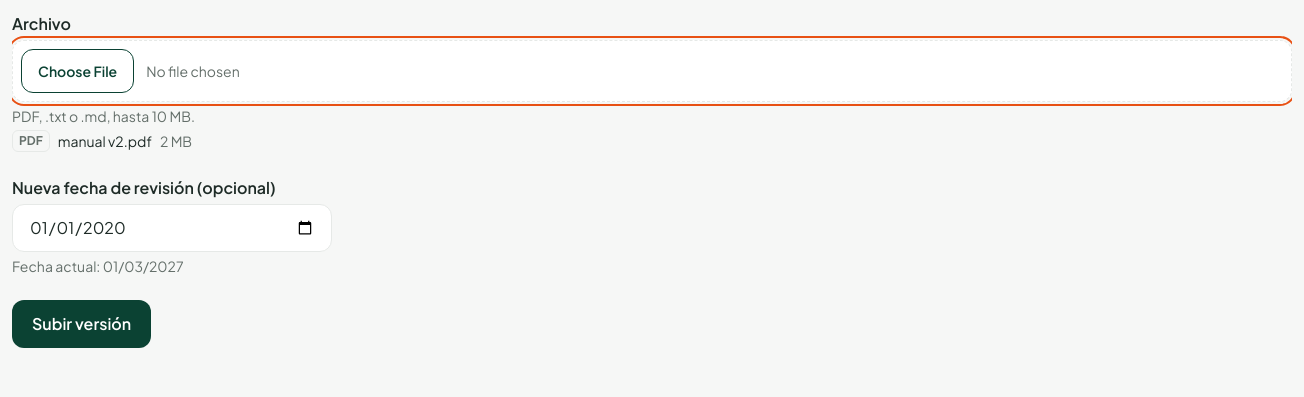
Test case: NewVersionForm (spec 003, R6 a R9; plan 003, 6.3) › una fecha de hoy o anterior no se envía
Earlier steps of the test are not shown.
Click the button "Subir versión". click: (82, 324)
box: x1=12 y1=300 x2=151 y2=348
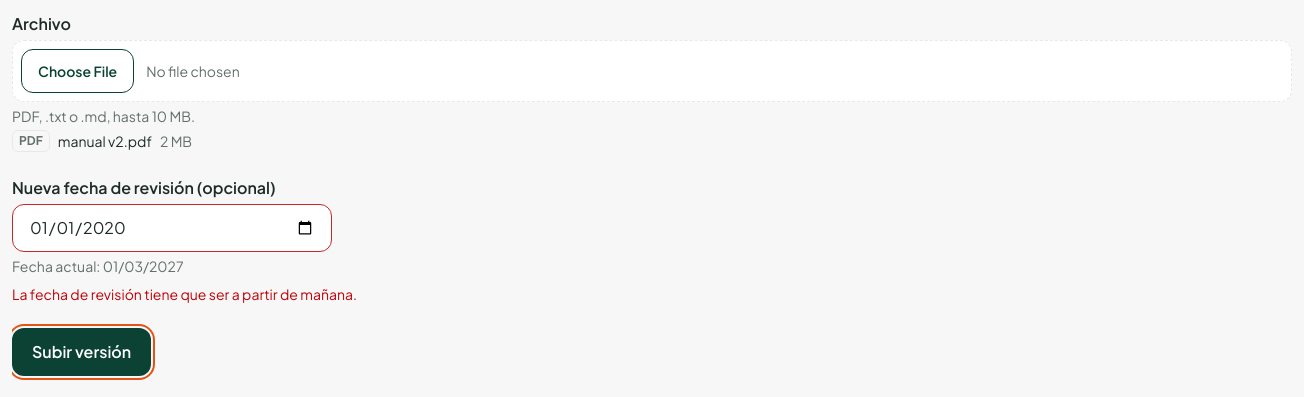
Result: the text "La fecha de revisión tiene que ser a partir de mañana." is shown at x1=12 y1=285 x2=357 y2=303
